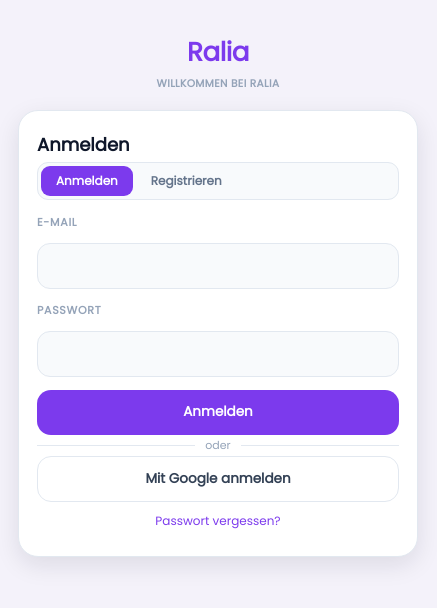
Scenario: SignInScreen › verlangt beide Felder, bevor es etwas schickt
Click the button "Anmelden" at (218, 412), box [37,390,399,434]
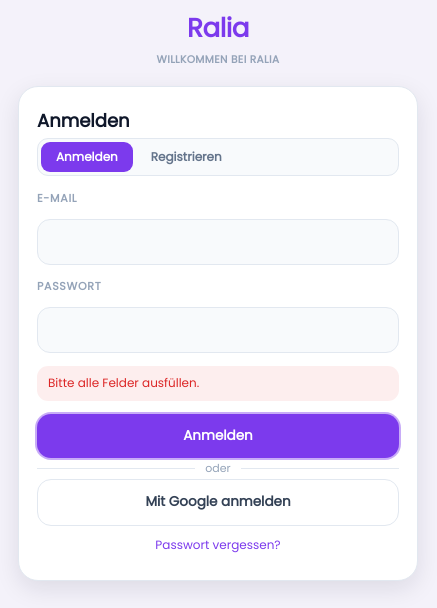
Check: the message reads "Bitte alle Felder ausfüllen.", box [48,374,199,391]
